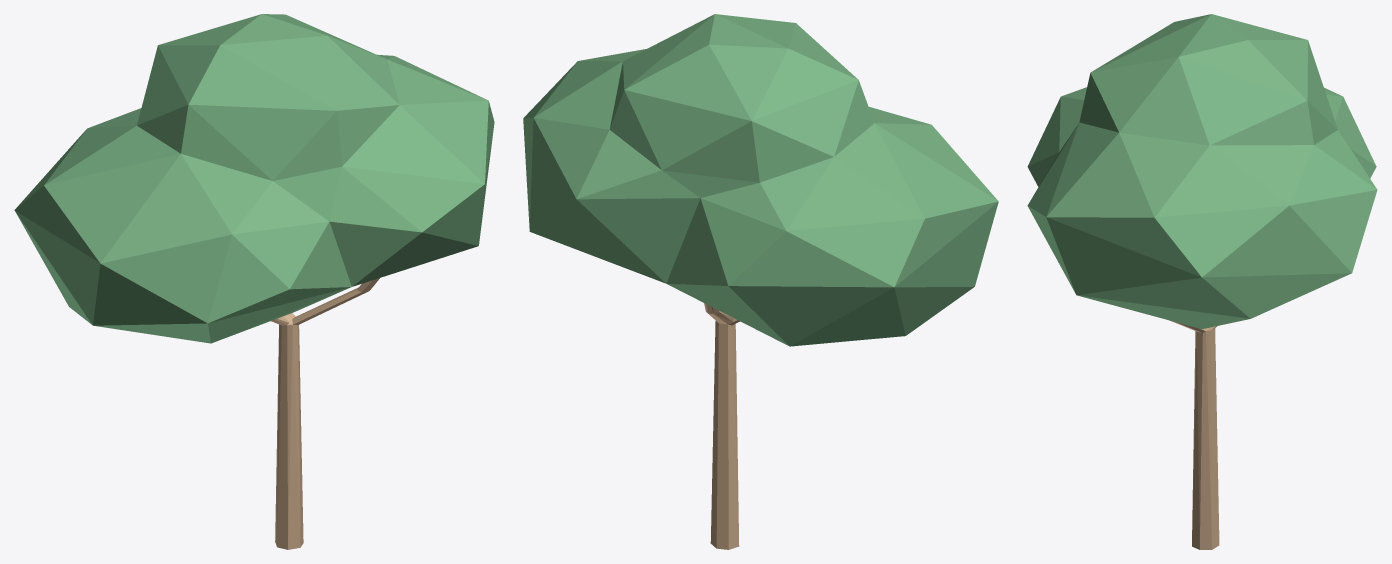
Rendered from tree27.fbx.
The picture shows the model from 3 angles, left to right: view 1: azimuth 30°, elevation 25°; view 2: azimuth 150°, elevation 25°; view 3: azimuth 270°, elevation 25°; orthographic projection. The views are drawn at different scales.
Visible parts, largest first — view 1: treetype27; view 2: treetype27; view 3: treetype27.
Part boxes in pixels (x1,y1,x2,y2): treetype27: [14, 14, 494, 549]; treetype27: [523, 14, 998, 549]; treetype27: [1027, 14, 1377, 549].
Size of the model in its own units: 181 by 205 by 130.
